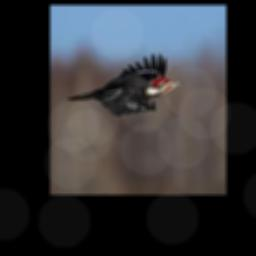Woodpecker: (67, 53, 185, 116)
